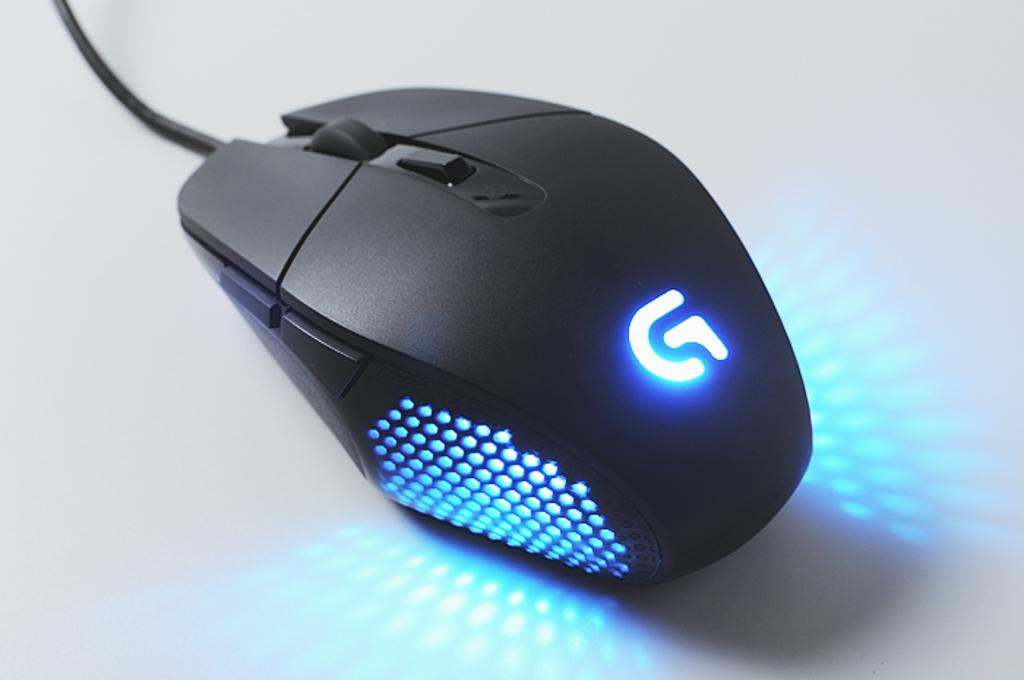Computer-mouse: (178, 86, 812, 589)
